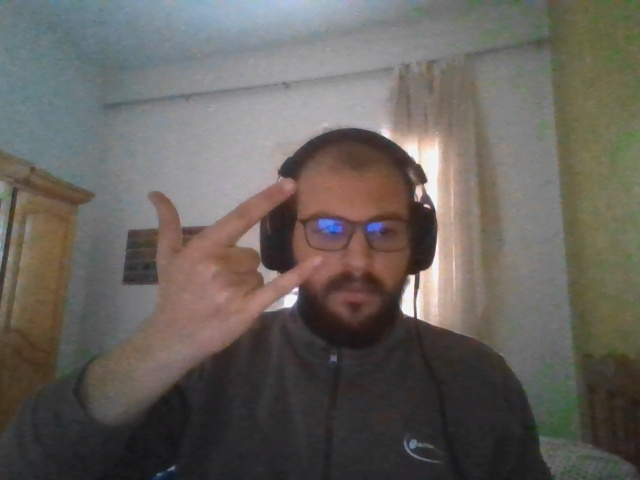I Love You: (146, 178, 323, 357)
